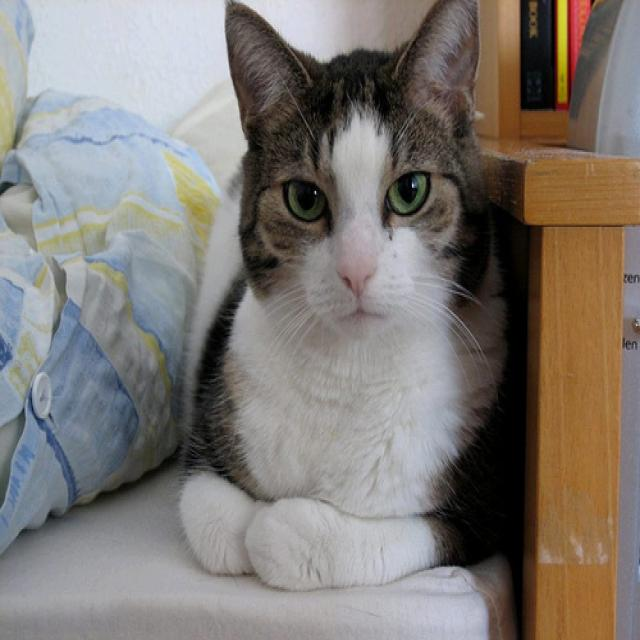left eye: (382, 167, 432, 217)
